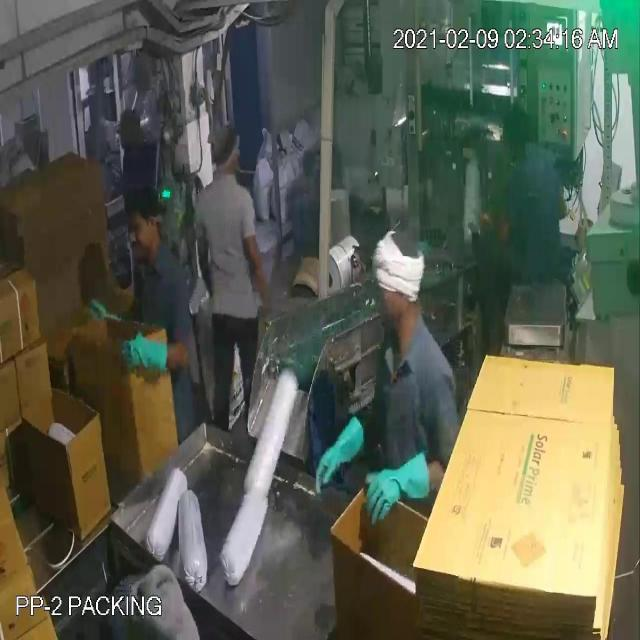Gloves: (42, 62, 394, 492)
